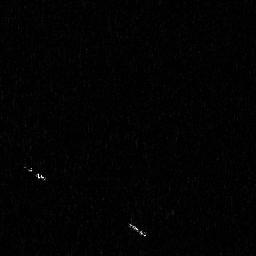ship: (126, 219, 149, 239), (23, 164, 47, 183)
